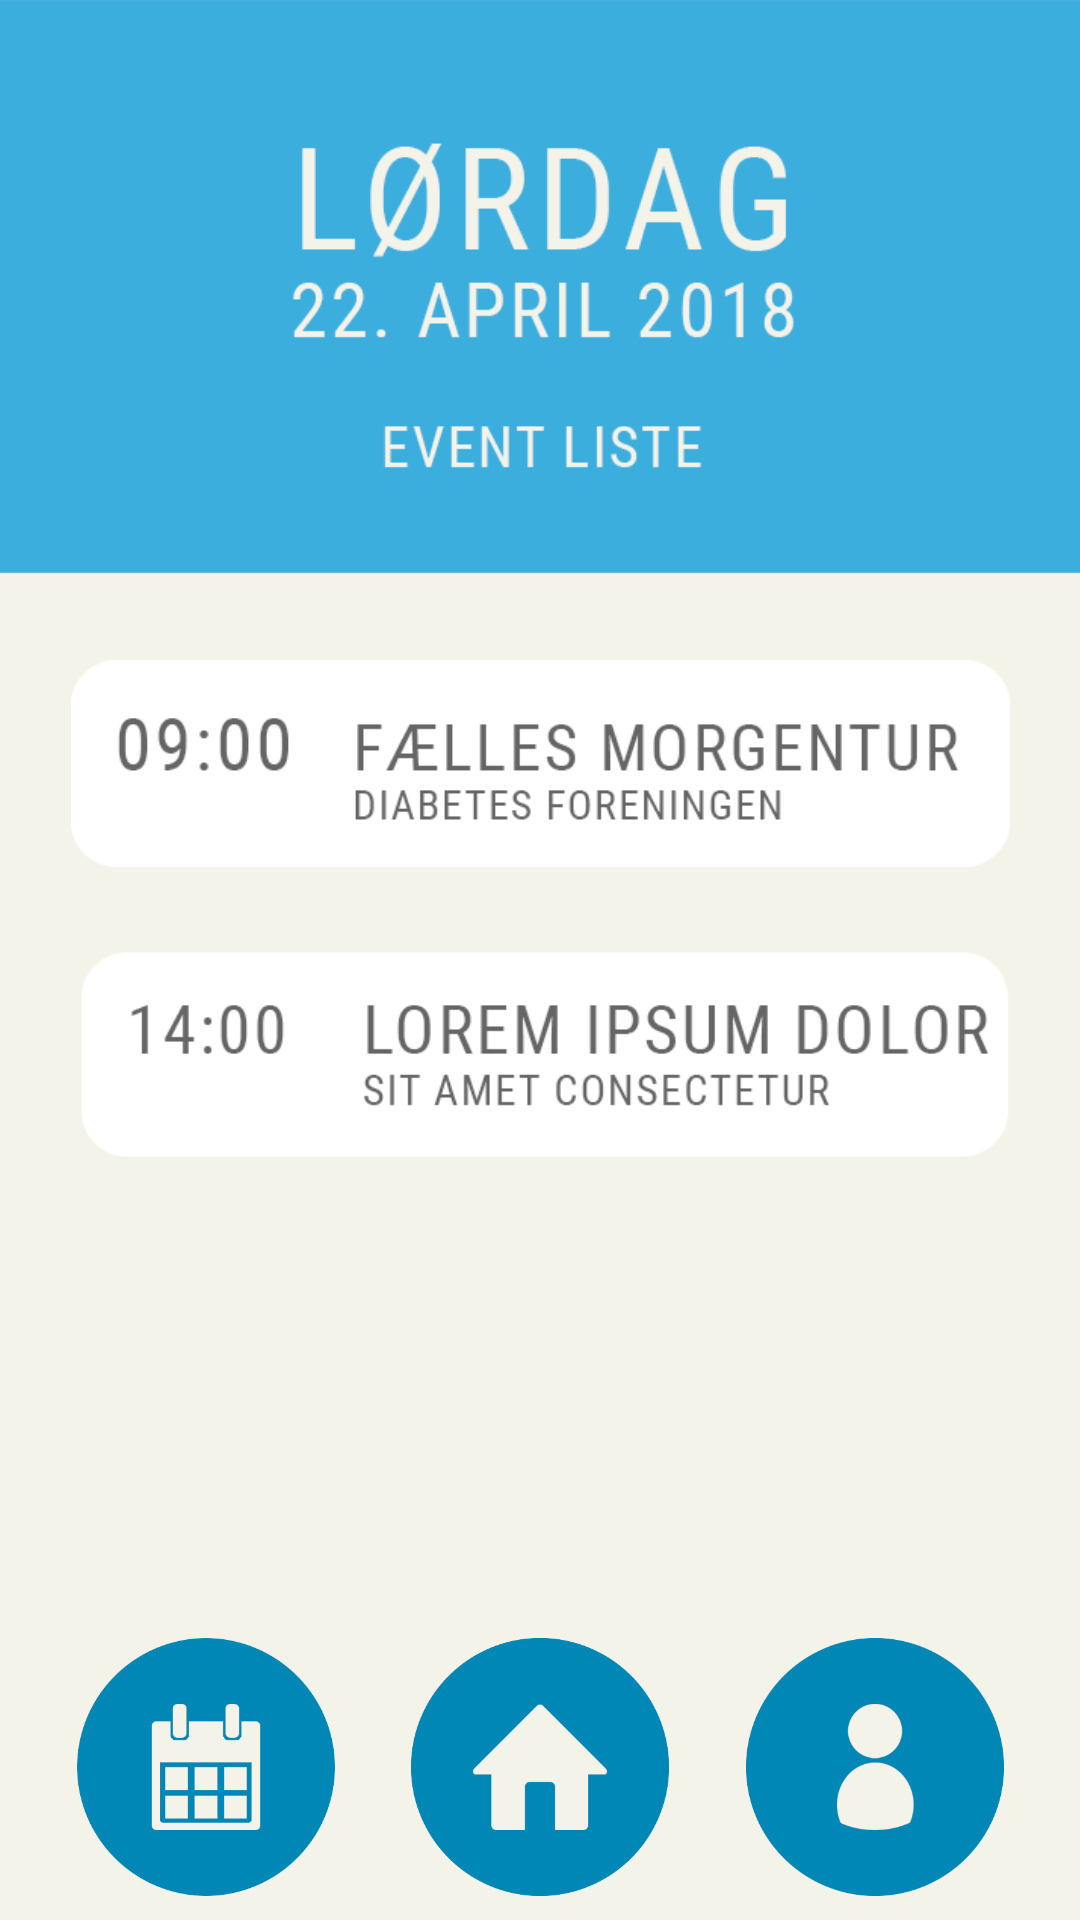

Screen size 1080 x 1920. Icon name, then its center in pixels as point (x, y):
calendar unclicked: point (206, 1767)
homepage unclicked: point (540, 1767)
profile unclicked: point (875, 1767)
